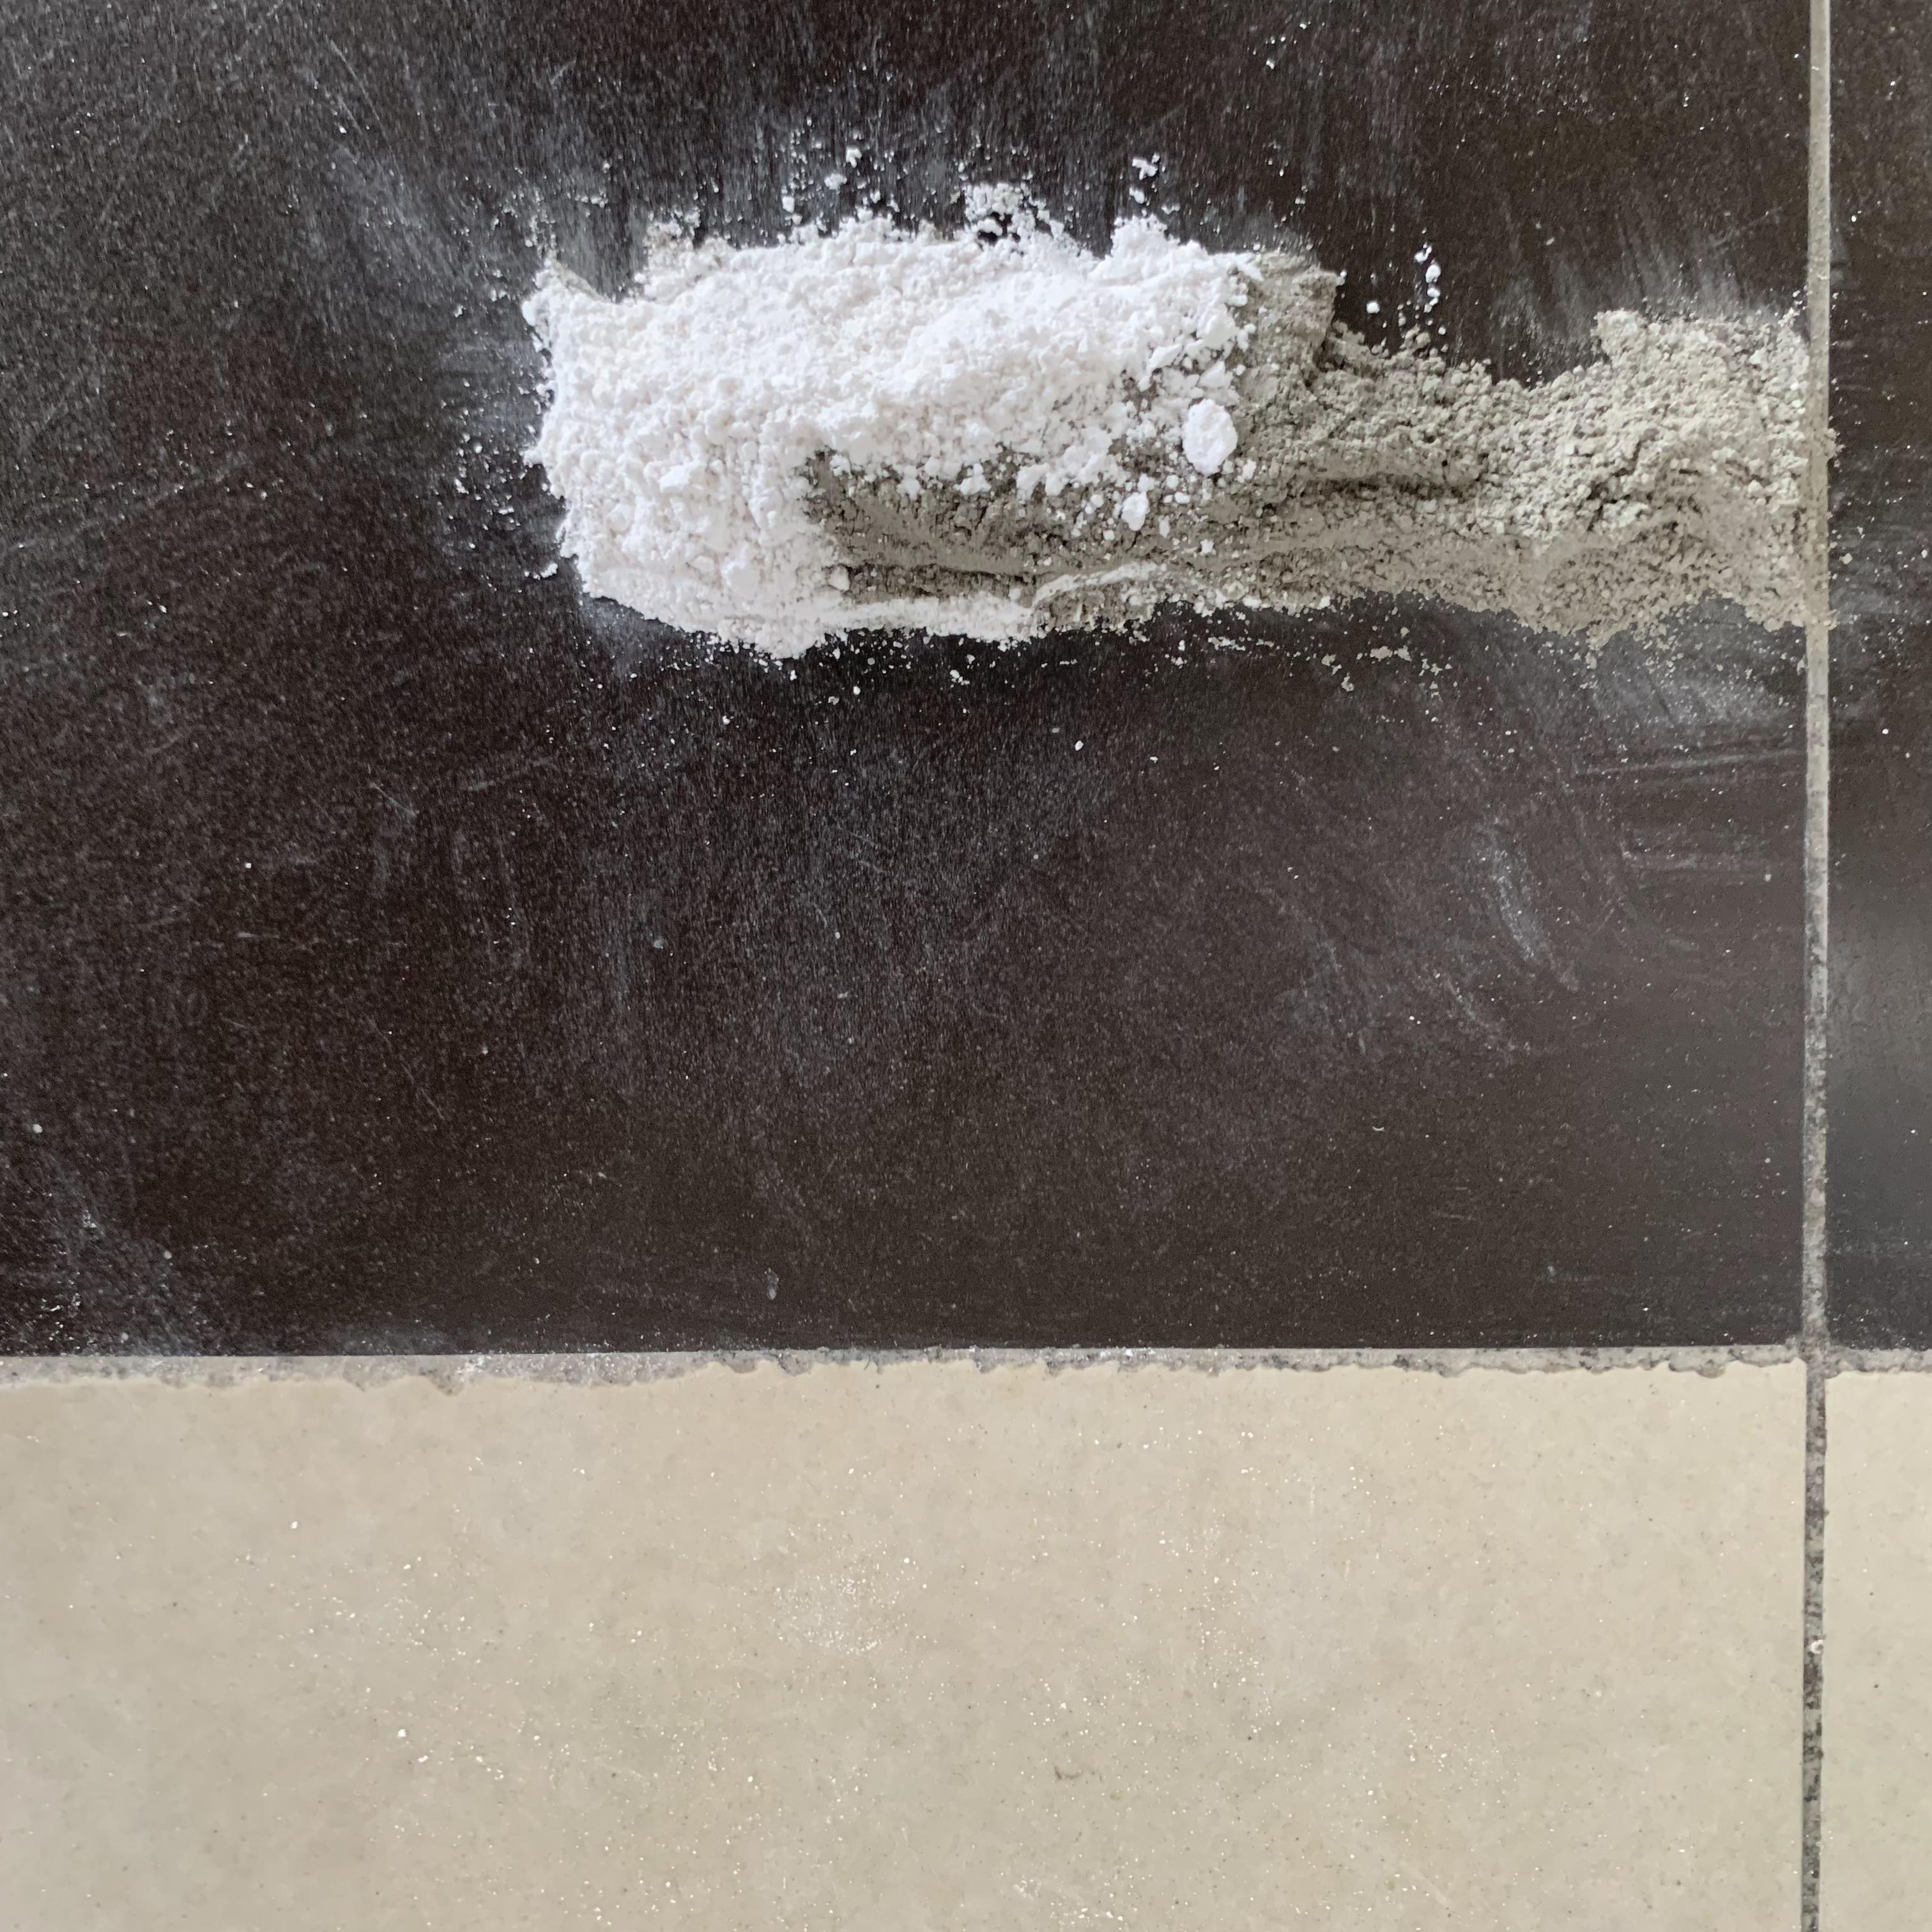ash pile: (458, 117, 1932, 750)
